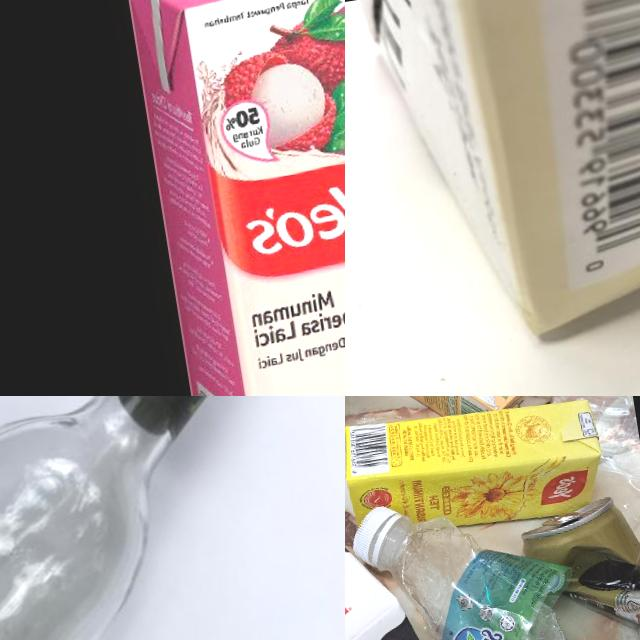aba de lata: (542, 511, 583, 528)
caixinha: (122, 0, 345, 396), (345, 396, 611, 546), (345, 396, 468, 640)
garrafa de vidro: (0, 396, 343, 640)
garrafa plástica: (372, 478, 640, 640), (517, 396, 640, 468)
lata: (516, 490, 640, 640)
papelão: (368, 0, 640, 367)
tampa plástica: (347, 502, 406, 568)
